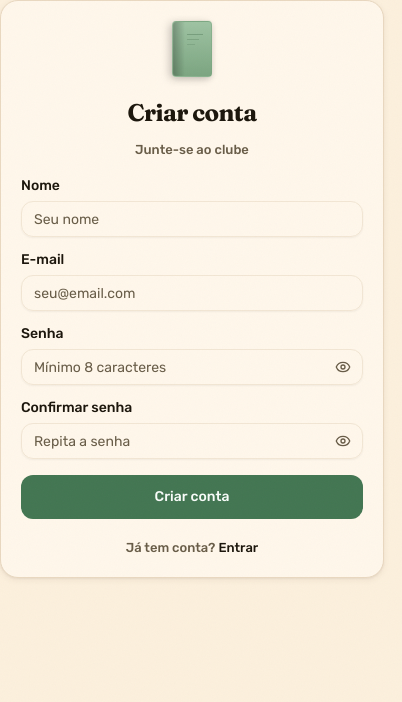
Test: RegisterPage › shows validation errors on empty submit
Click the button "Criar conta".
click(192, 497)  # box [21,475,363,519]
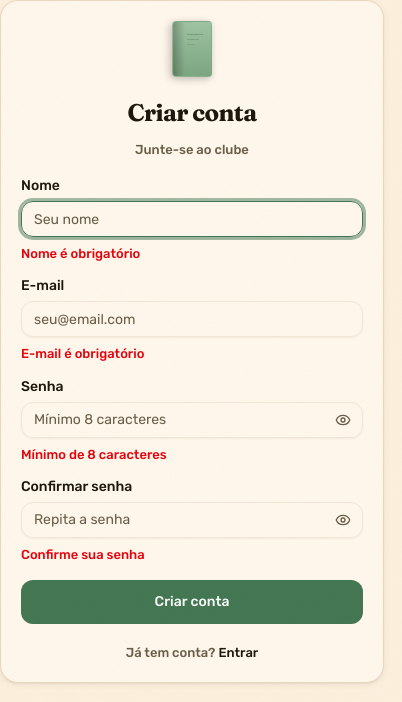
Now the text "Nome é obrigatório" is shown, box [21,246,140,261]
Now the text "E-mail é obrigatório" is shown, box [21,346,144,361]
Now the text "Mínimo de 8 caracteres" is shown, box [21,447,167,462]
